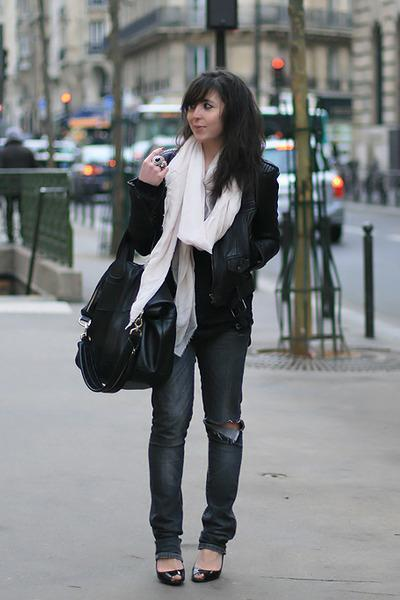bag: (75, 252, 179, 392)
jacket: (117, 164, 287, 347)
pants: (137, 335, 248, 563)
shoe: (157, 566, 221, 586)
